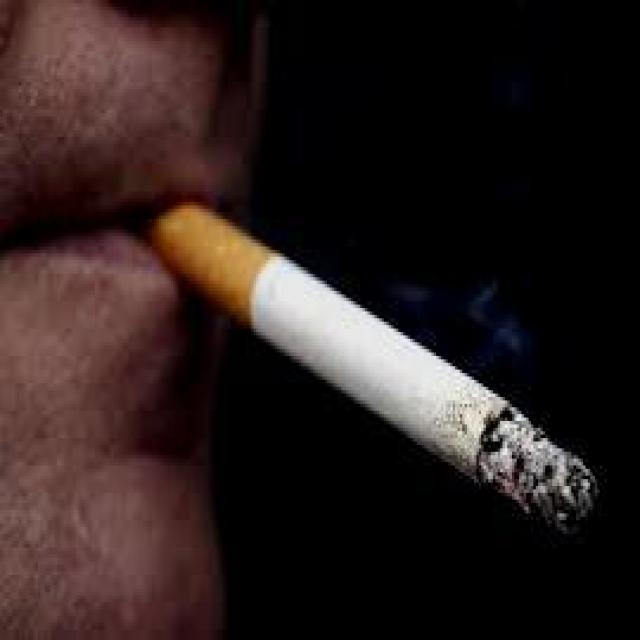cigarette: (147, 188, 604, 551)
